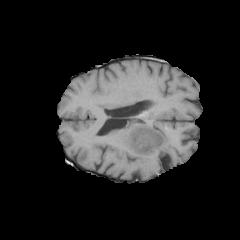glioma: (128, 120, 180, 168)
